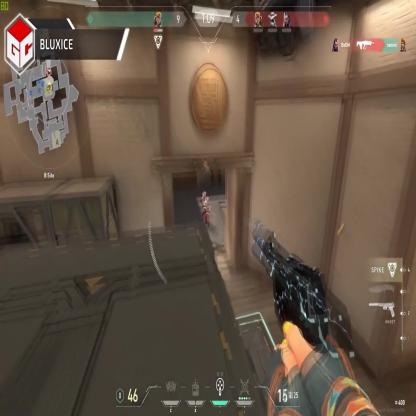enemy: (201, 191, 210, 236)
enemy_head: (202, 192, 206, 200)
